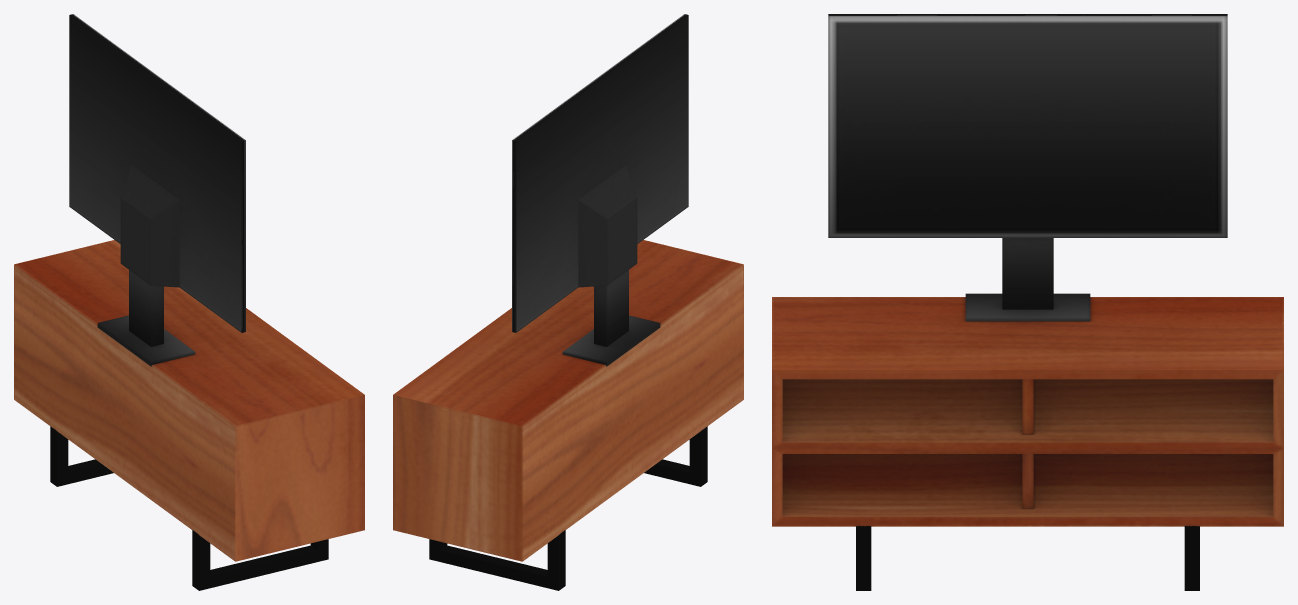
The picture shows the model from 3 angles, left to right: view 1: azimuth 30°, elevation 25°; view 2: azimuth 150°, elevation 25°; view 3: azimuth 270°, elevation 25°; orthographic projection. The views are drawn at different scales.
Visible parts, largest first — view 1: Object_50; view 2: Object_50; view 3: Object_50.
Boxes of the visible parts, x1,y1,x2,y2 form: Object_50: [14, 14, 364, 590]; Object_50: [393, 14, 743, 590]; Object_50: [772, 14, 1283, 590].
Bounding box in the file's own units: 2 × 6.66 × 5.92.
Materials: 1 (1 with a texture image).
